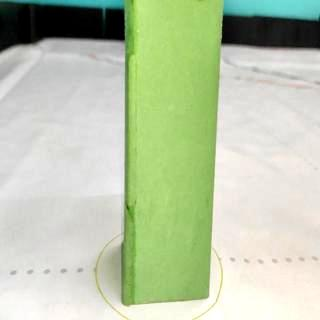greenbox: (123, 0, 223, 306)
